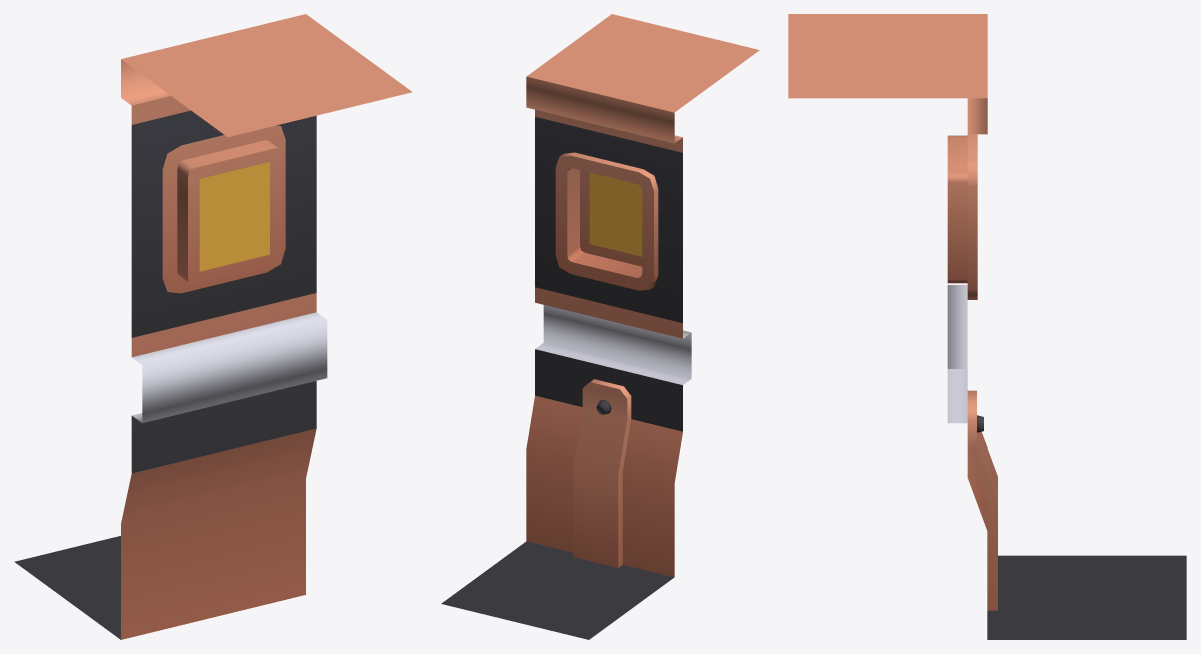
File: structure-window.obj
3 renders of one model, left to right at view 1: azimuth 30°, elevation 25°; view 2: azimuth 150°, elevation 25°; view 3: azimuth 270°, elevation 25°, orthographic. The views are drawn at different scales.
Visible parts, largest first — view 1: structure-window; view 2: structure-window; view 3: structure-window.
Part boxes in pixels (<box>): structure-window: <box>14,14,412,639</box>; structure-window: <box>441,14,759,639</box>; structure-window: <box>788,14,1186,639</box>.
Bounding box in the file's own units: 1 × 3 × 2.
